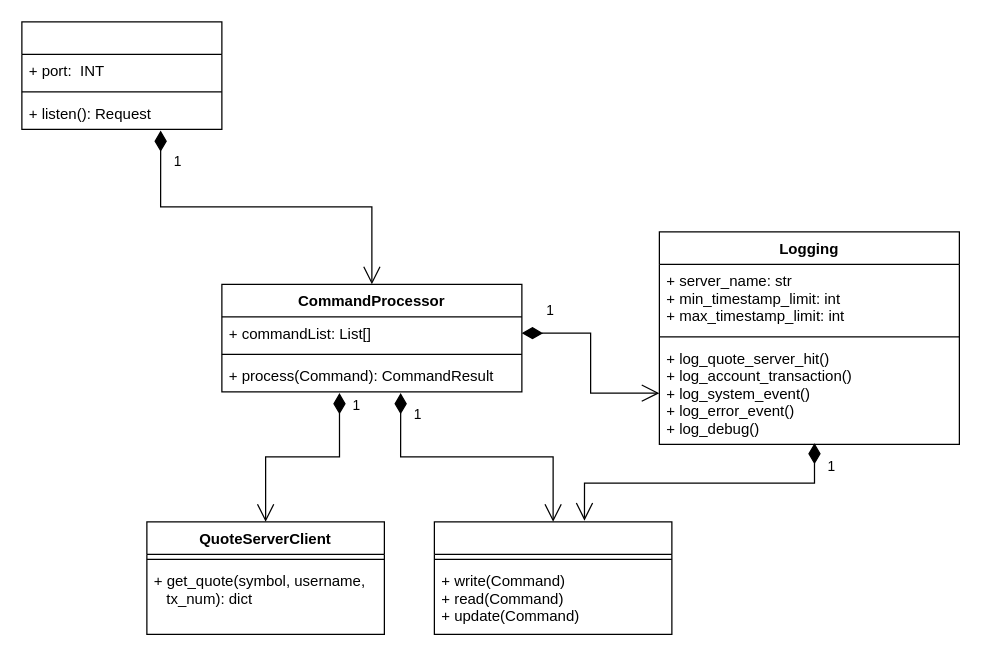
Image size: 981x660. Some labels were removed from this diagram. The shapes that lost their labels are listed below. From the top down, each one's box as (x1, y1, x2, y2) in pixels, then its label:
(21, 21, 222, 129): Server (Flask)
(433, 521, 672, 634): DB
